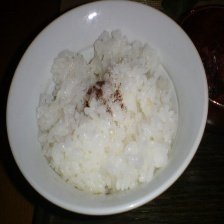rice: (37, 30, 179, 194)
